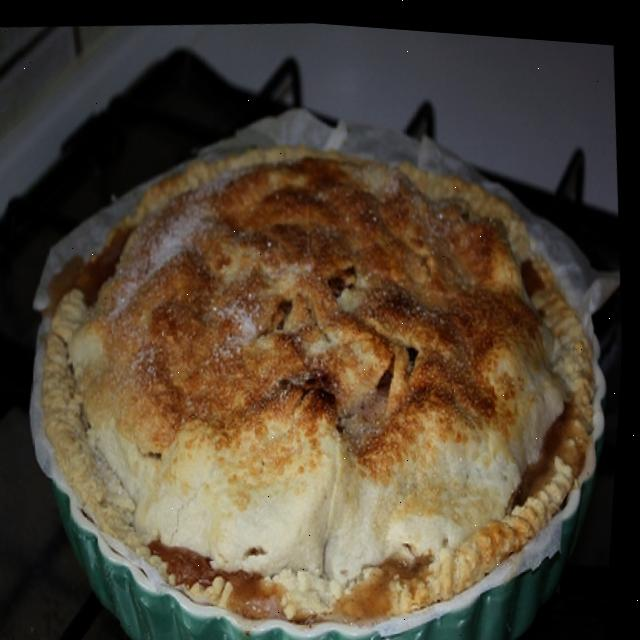炸货点心: (0, 42, 638, 640)
蛋糕甜品: (0, 42, 638, 640)
